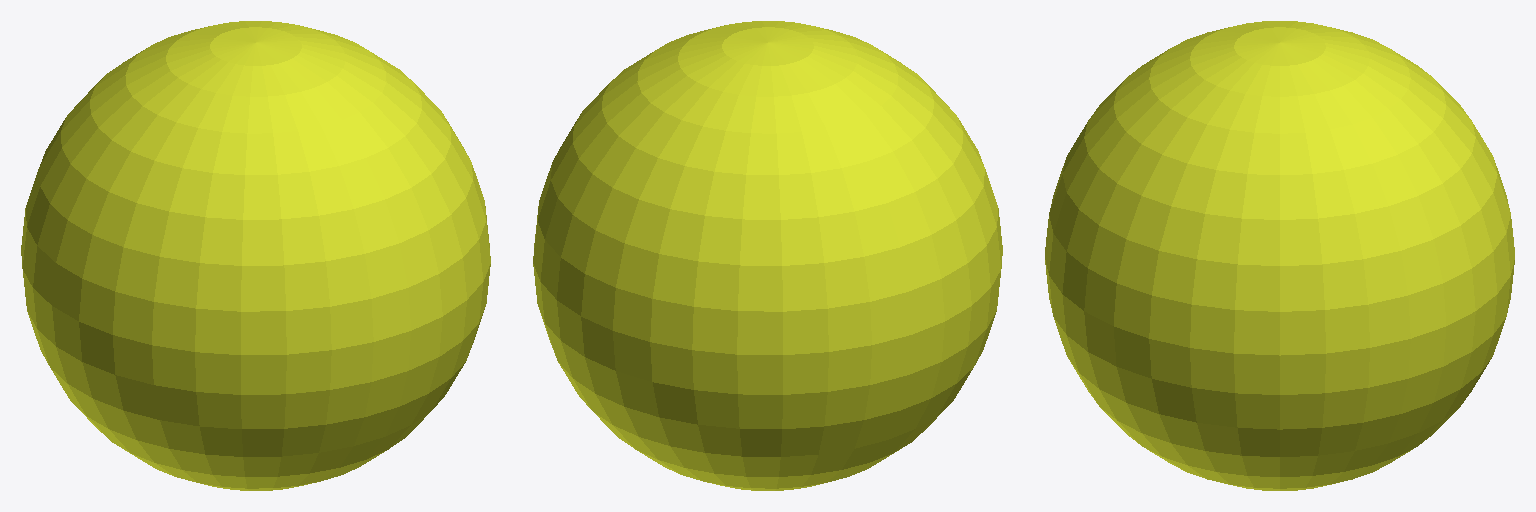
3 renders of one model, left to right at view 1: azimuth 30°, elevation 25°; view 2: azimuth 150°, elevation 25°; view 3: azimuth 270°, elevation 25°, orthographic.
Parts seen in each view (by area): view 1: 球; view 2: 球; view 3: 球.
Part boxes in pixels (bbox=[...]): 球: bbox=[21, 21, 490, 490]; 球: bbox=[533, 21, 1002, 490]; 球: bbox=[1045, 21, 1514, 490].
Bounding box in the file's own units: 1 × 1 × 1.
1 materials, 1 textured.